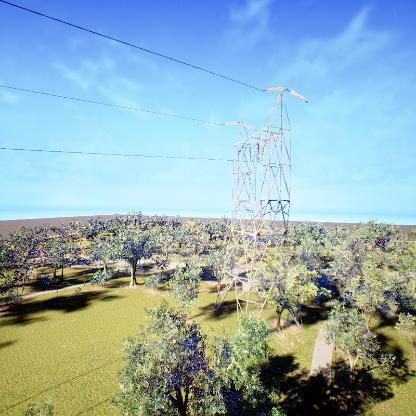tower: (212, 80, 311, 337)
